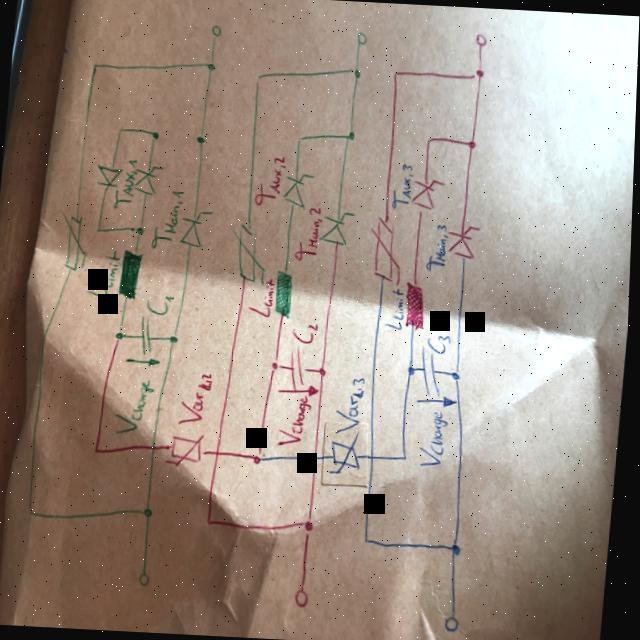capacitor: (419, 349, 445, 398), (289, 346, 310, 390), (139, 316, 156, 356)
crossover: (215, 446, 225, 458), (314, 453, 321, 463), (152, 444, 158, 452), (371, 454, 377, 462)
diode: (94, 164, 124, 189)
inductor: (117, 250, 146, 302), (403, 281, 429, 333), (274, 270, 296, 320)
junction: (303, 516, 317, 538), (254, 449, 267, 466), (471, 67, 485, 82), (271, 358, 284, 374), (453, 540, 464, 558), (349, 66, 361, 82), (142, 507, 156, 520), (344, 129, 356, 144), (115, 328, 126, 344), (451, 371, 463, 384), (27, 505, 38, 519), (169, 334, 180, 346), (135, 226, 146, 238), (204, 62, 215, 74), (466, 140, 477, 152), (408, 363, 417, 377), (424, 134, 434, 146), (150, 130, 159, 142), (320, 368, 329, 378), (115, 126, 124, 136), (295, 135, 304, 145), (90, 62, 98, 72), (254, 75, 261, 86), (366, 536, 373, 546), (208, 518, 215, 526), (95, 227, 103, 234), (404, 454, 411, 462), (392, 70, 399, 78), (95, 447, 101, 456)
terminal: (296, 584, 313, 610), (447, 610, 464, 636), (139, 570, 154, 590), (473, 32, 488, 49), (353, 31, 367, 49), (208, 24, 222, 41)
text: (114, 377, 158, 439), (150, 186, 186, 252), (277, 394, 315, 449), (179, 371, 215, 429), (419, 409, 452, 470), (335, 376, 368, 436), (86, 248, 122, 302), (253, 154, 286, 210), (293, 206, 324, 264), (113, 158, 139, 212), (426, 222, 450, 274), (248, 278, 276, 320), (391, 163, 414, 212), (384, 288, 407, 332), (145, 292, 177, 318), (292, 322, 320, 346), (426, 333, 454, 356)
thyristor: (446, 224, 477, 261), (319, 212, 350, 246), (410, 178, 437, 215), (180, 210, 205, 248), (283, 173, 308, 210), (133, 165, 158, 198)
